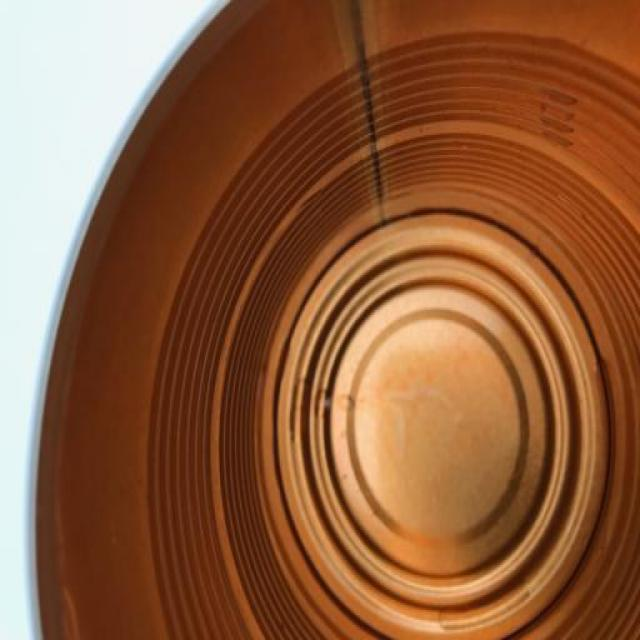metel: (5, 1, 640, 640)
